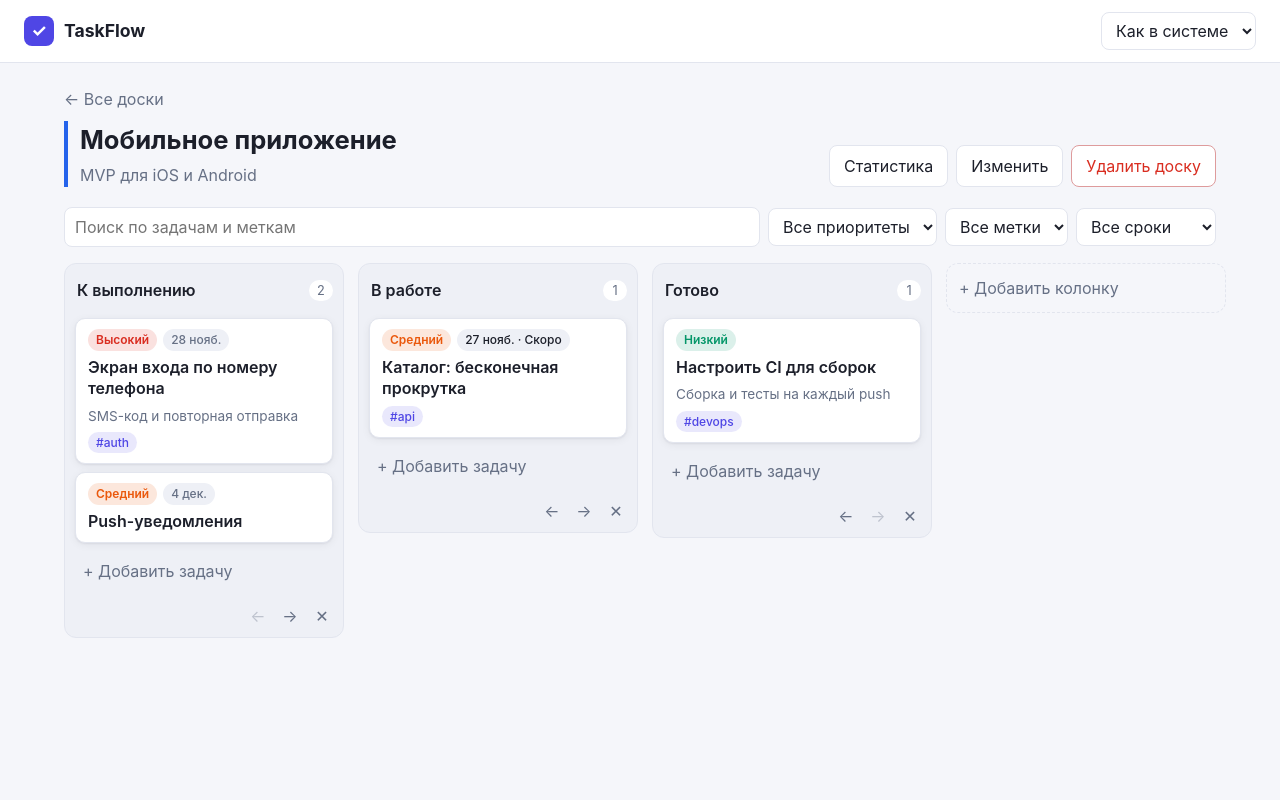
работа с досками и колонками › удаляет колонку после подтверждения
Click the button named "Удалить колонку «Готово»" at (910, 516), box [895, 501, 925, 531]
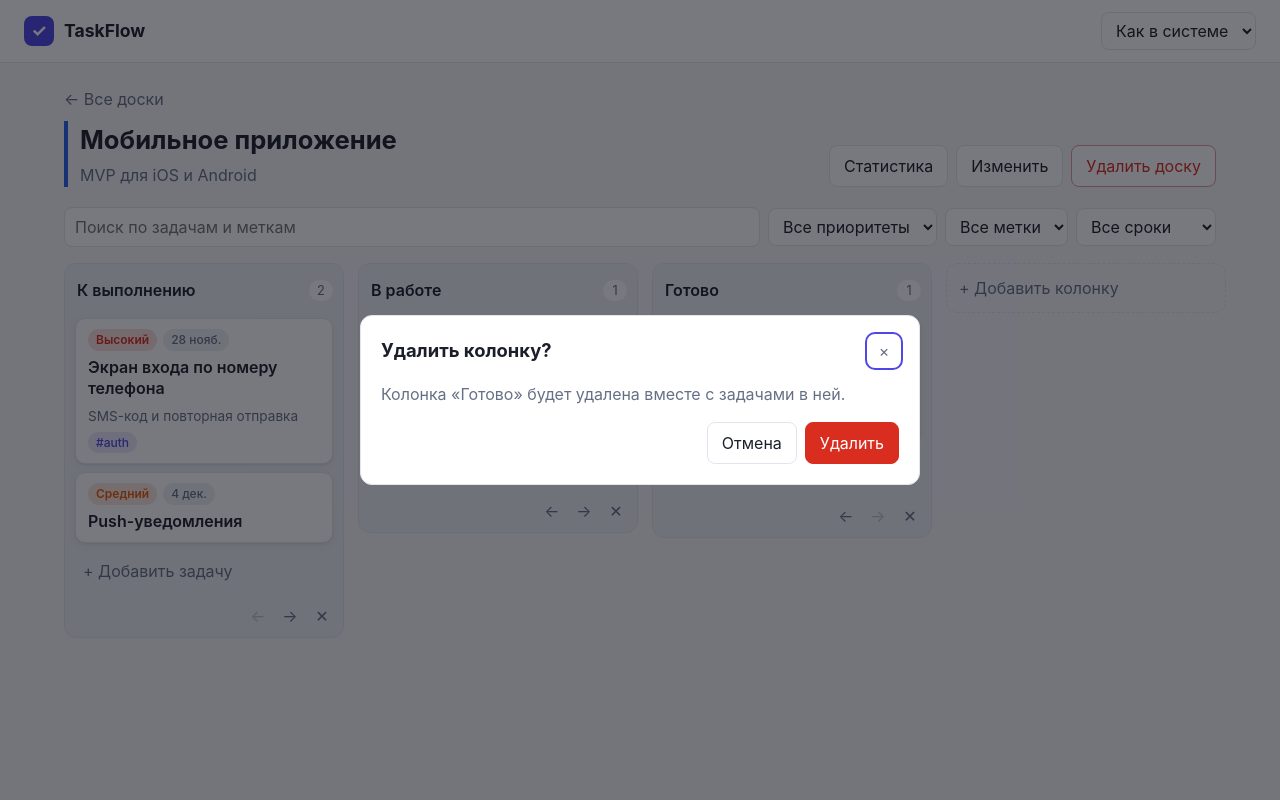
Click the button "Удалить" at (852, 443), box [805, 422, 899, 464]
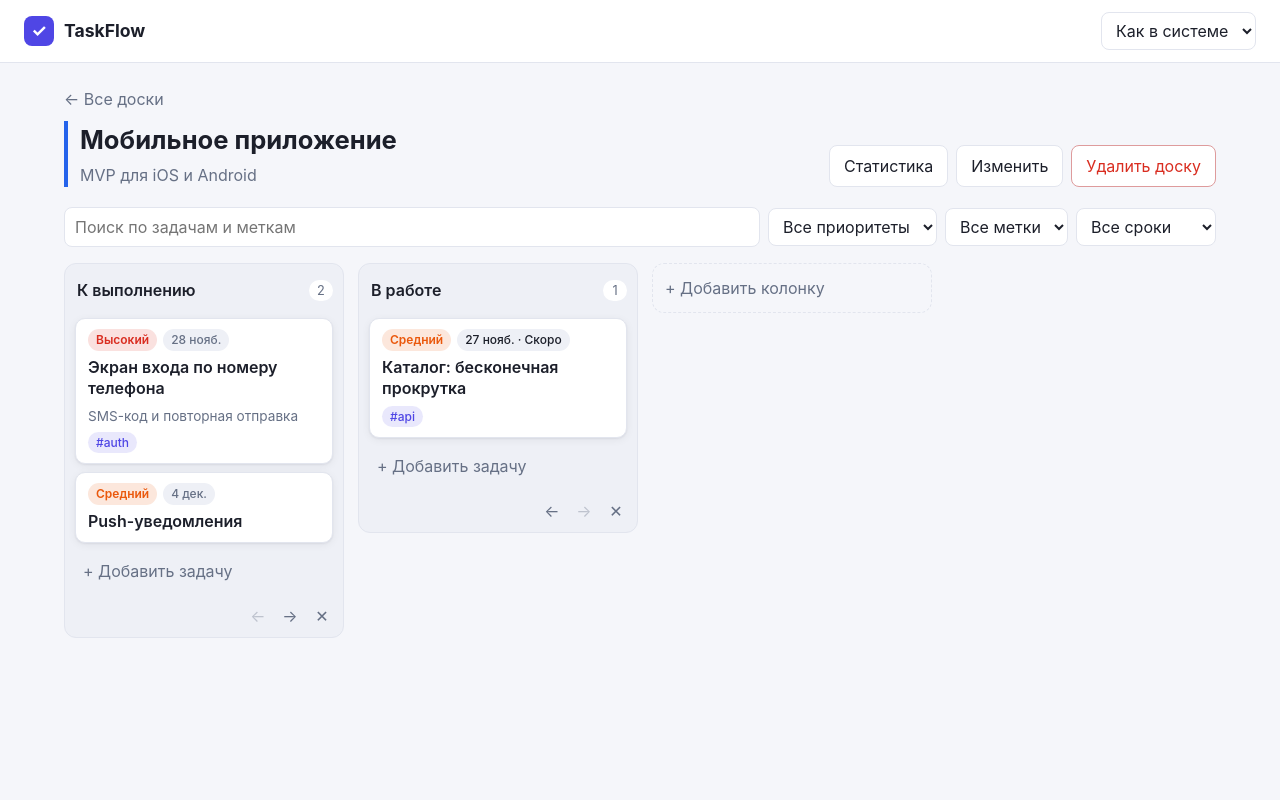
expect the button "Готово" is gone: met
